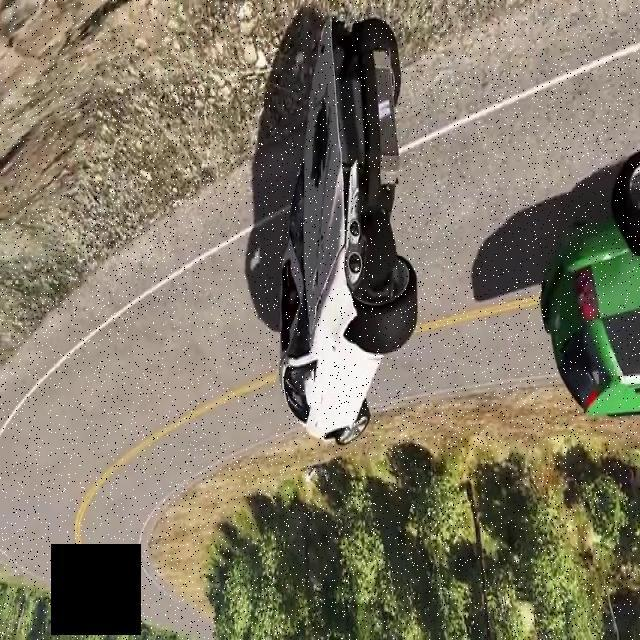severe: (274, 15, 421, 457)
